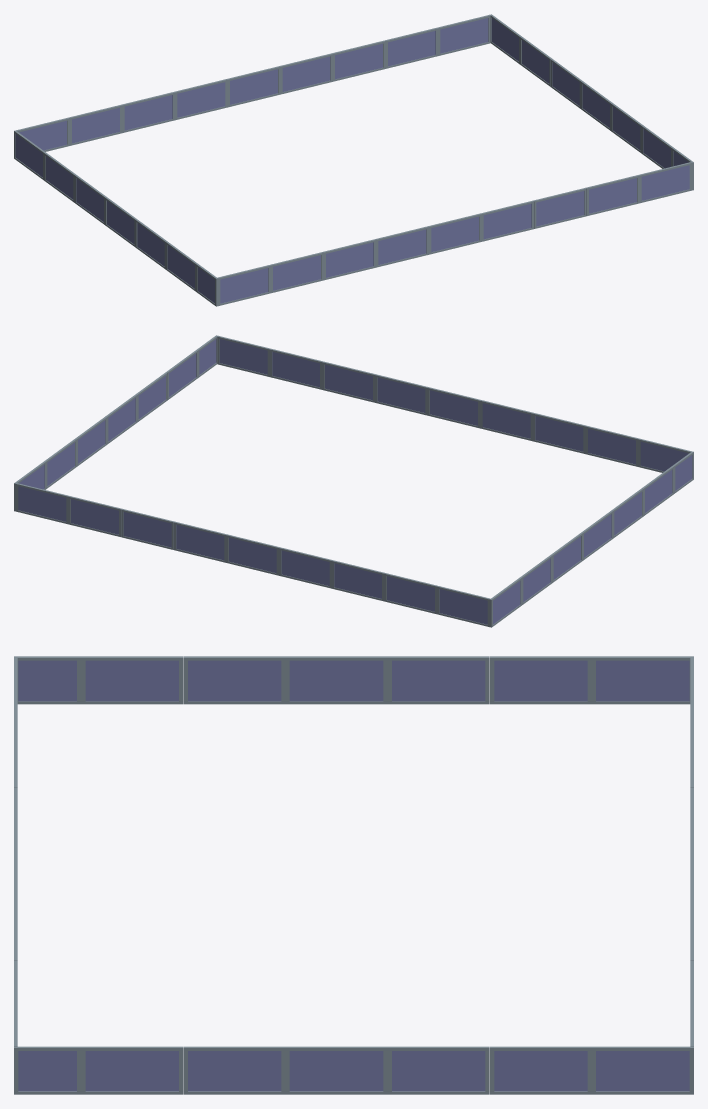
File: WallsMap.fbx
The picture shows the model from 3 angles, top to bottom: view 1: azimuth 30°, elevation 25°; view 2: azimuth 150°, elevation 25°; view 3: azimuth 270°, elevation 25°; orthographic projection. The views are drawn at different scales.
Parts seen in each view (by area): view 1: Cube.194, Cube.197, Cube.217, Cube.006, Cube.222, Cube.192, Cube.218, Cube.003, Cube.216, Cube.219, Cube.220, Cube.195 (+19 smaller); view 2: Cube.219, Cube.007, Cube.222, Cube.197, Cube.216, Cube.208, Cube.006, Cube.192, Cube.218, Cube.003, Cube.004, Cube.194 (+20 smaller); view 3: Cube.207, Cube.211, Cube.212, Cube.214, Cube.198, Cube.200, Cube.201, Cube.203, Cube.215, Cube.202, Cube.204, Cube.213 (+2 smaller).
Part boxes in pixels (bbox=[...]): Cube.194: bbox=[227, 66, 280, 107]; Cube.197: bbox=[385, 27, 438, 68]; Cube.217: bbox=[323, 239, 376, 280]; Cube.006: bbox=[69, 105, 122, 145]; Cube.222: bbox=[586, 175, 639, 215]; Cube.192: bbox=[174, 79, 227, 120]; Cube.218: bbox=[375, 226, 428, 267]; Cube.003: bbox=[279, 53, 332, 94]; Cube.216: bbox=[270, 252, 323, 293]; Cube.219: bbox=[428, 213, 481, 254]; Cube.220: bbox=[639, 162, 691, 203]; Cube.195: bbox=[437, 15, 490, 55]; Cube.219: bbox=[427, 387, 480, 428]; Cube.007: bbox=[331, 560, 384, 601]; Cube.222: bbox=[269, 348, 322, 389]; Cube.197: bbox=[68, 496, 121, 536]; Cube.216: bbox=[585, 426, 638, 466]; Cube.208: bbox=[375, 374, 428, 415]; Cube.006: bbox=[384, 573, 437, 614]; Cube.192: bbox=[279, 547, 332, 588]; Cube.218: bbox=[480, 400, 533, 441]; Cube.003: bbox=[174, 521, 226, 562]; Cube.004: bbox=[437, 586, 490, 626]; Cube.194: bbox=[226, 534, 279, 575]; Cube.207: bbox=[285, 656, 387, 704]; Cube.211: bbox=[81, 656, 183, 704]; Cube.212: bbox=[183, 656, 285, 704]; Cube.214: bbox=[387, 656, 489, 704]; Cube.198: bbox=[285, 1046, 387, 1094]; Cube.200: bbox=[81, 1046, 183, 1094]; Cube.201: bbox=[183, 1046, 285, 1094]; Cube.203: bbox=[387, 1046, 489, 1094]; Cube.215: bbox=[490, 656, 591, 704]; Cube.202: bbox=[592, 1046, 693, 1094]; Cube.204: bbox=[490, 1046, 591, 1094]; Cube.213: bbox=[592, 656, 693, 704].
Size of the model in its own units: 6692 by 371 by 4909.
